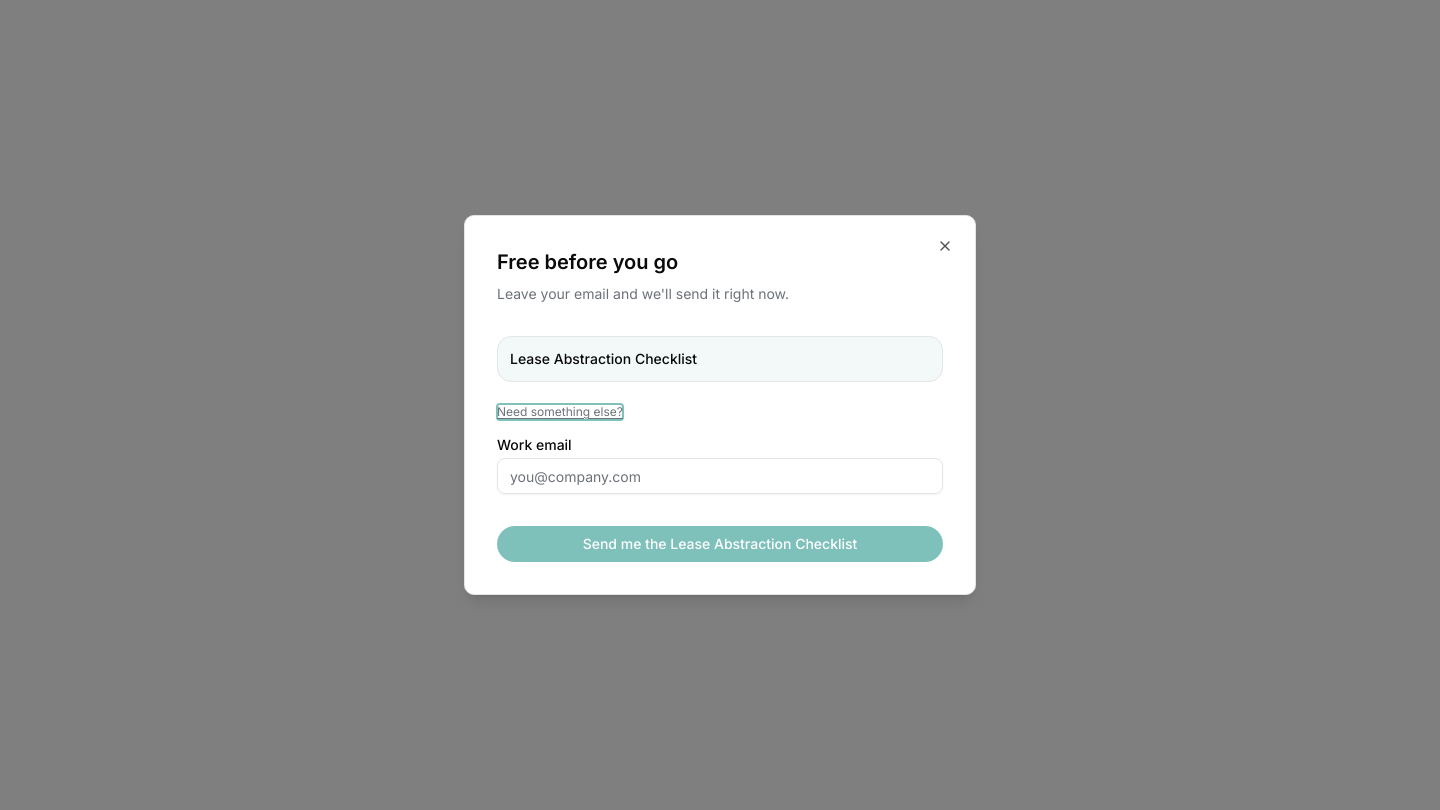
Test: ExitPopup › Swap disclosure › reveals the other three magnets when disclosure is clicked
expect the dialog is shown: met, box [464, 215, 976, 595]
What coordinates should you click on to do the following:
click the button "Need something else?"
I would click on:
 (560, 412)
Its box is [497, 404, 623, 420].
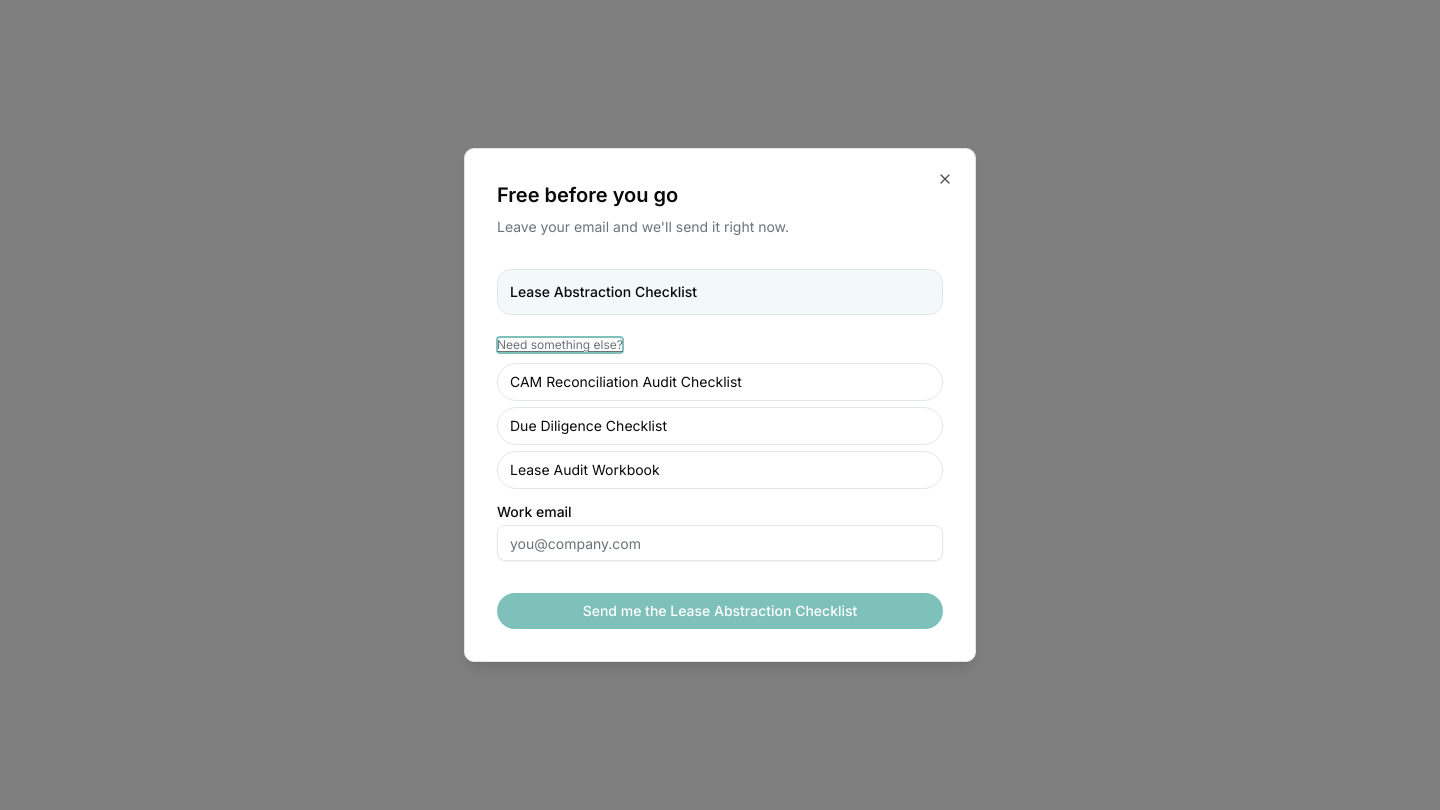
expect the button "CAM Reconciliation Audit Checklist" is shown: met, box [497, 363, 943, 401]
expect the button "Due Diligence Checklist" is shown: met, box [497, 407, 943, 445]
expect the button "Lease Audit Workbook" is shown: met, box [497, 451, 943, 489]
